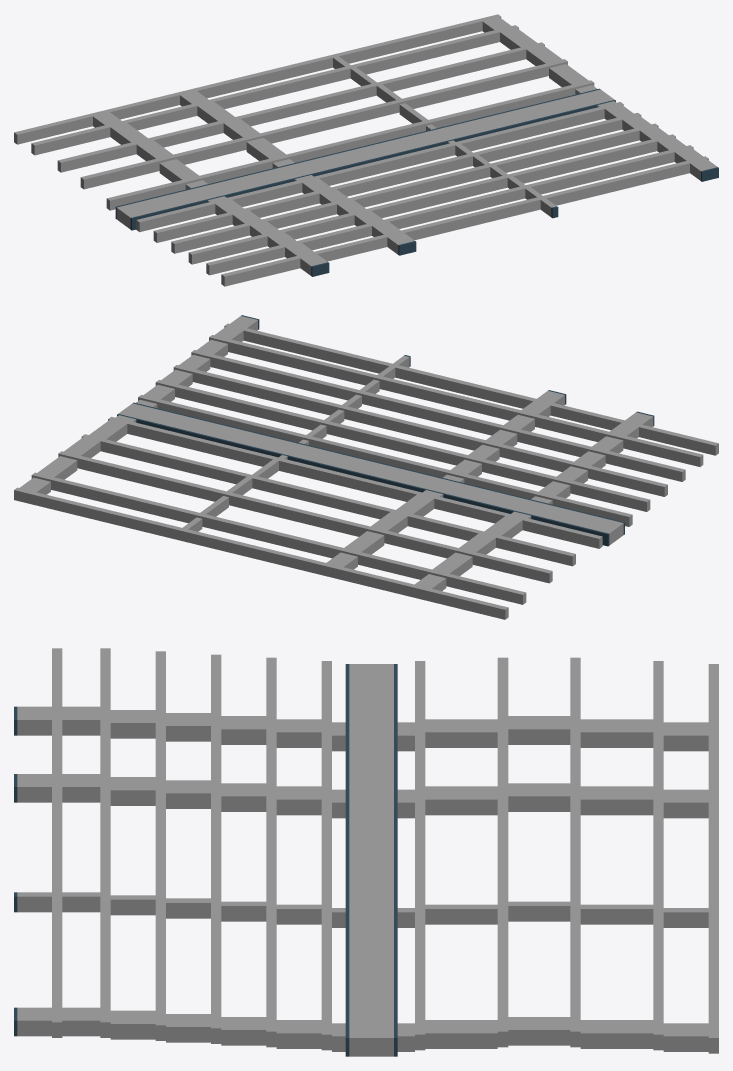
The model's file is Scene_Terrain_Stands_Roof.obj.
The picture shows the model from 3 angles, top to bottom: view 1: azimuth 30°, elevation 25°; view 2: azimuth 150°, elevation 25°; view 3: azimuth 270°, elevation 25°; orthographic projection. The views are drawn at different scales.
Size of the model in its own units: 25.6 by 1.1 by 20.4.
1 material, 1 textured.
